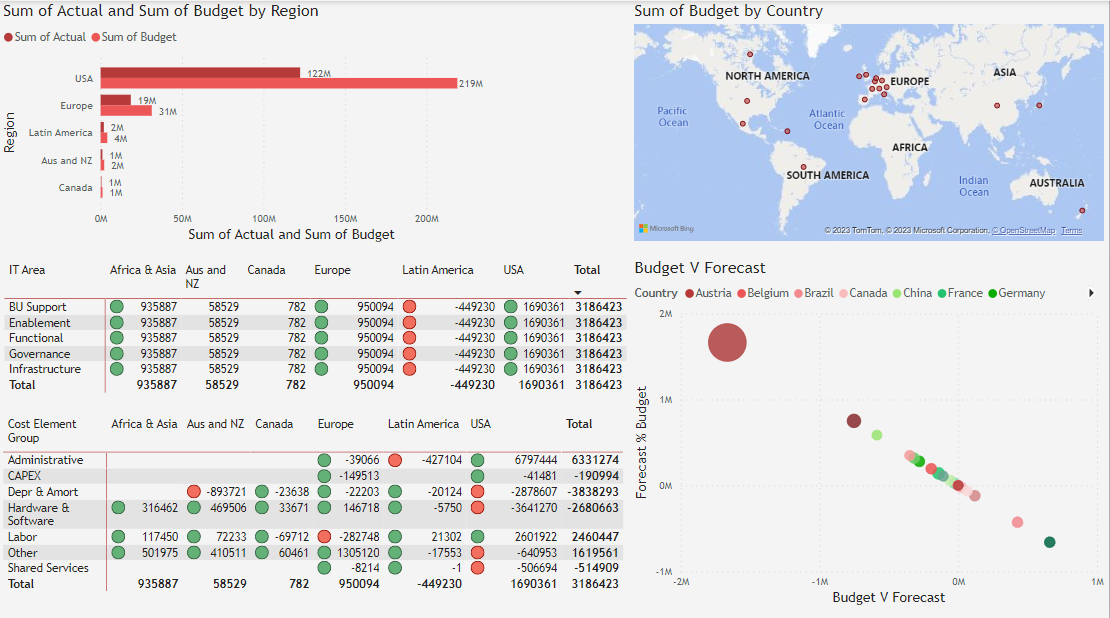

Layout of this report page (visuals, bound fields, positions):
{"tool":"powerbi","page":{"name":"Page 1","canvas":[1280,720],"ordinal":0},"visuals":[{"type":"gauge","title":"Sum of Actual VS Sum of Budget","fields":{"Y":["Sum(Actuals.Actual)"],"TargetValue":["Sum(Budget.Budget)"]},"box":[0,306.7,280.7,204],"z":0},{"type":"kpi","fields":{"TrendLine":["Budget.Date"],"Indicator":["Sum(Budget.Budget)"],"Goal":["Sum(Forecast.Forecast)"]},"box":[0,510.7,280.7,209.8],"z":2},{"type":"lineChart","fields":{"Category":["Budget.Date.Variation.Date Hierarchy.Year","Budget.Date.Variation.Date Hierarchy.Month","CostElements.Cost Element"],"Y":["Sum(Actuals.Actual)","Sum(Budget.Budget)","Sum(Forecast.Forecast)"]},"box":[324.1,56.4,591.7,250.3],"z":3},{"type":"areaChart","fields":{"Y":["Actuals.Actual RT","Budget.Budget RT","Forecast.Forecast RT"],"Category":["Budget.Date.Variation.Date Hierarchy.Year","Budget.Date.Variation.Date Hierarchy.Quarter","Budget.Date.Variation.Date Hierarchy.Month","Budget.Date.Variation.Date Hierarchy.Day"]},"box":[324.1,306.7,591.7,205.4],"z":4},{"type":"lineClusteredColumnComboChart","fields":{"Category":["Budget.Date.Variation.Date Hierarchy.Year","Budget.Date.Variation.Date Hierarchy.Quarter","Budget.Date.Variation.Date Hierarchy.Month"],"Y":["Budget.Budget V","Budget.Forecast % Budget"]},"box":[324.1,510.7,591.7,209.8],"z":5},{"type":"clusteredBarChart","fields":{"Category":["Regions.Region"],"Y":["Budget.Forecast % Budget"]},"box":[915.7,56.4,364.6,230],"z":6},{"type":"map","fields":{"Size":["Sum(Actuals.Actual)"],"Category":["Regions.Country"]},"box":[915.7,506.3,364.6,214.1],"z":7},{"type":"card","fields":{"Values":["Actuals.YTD month"]},"box":[0,56.4,324.1,205.4],"z":8},{"type":"clusteredBarChart","fields":{"Category":["Forecast.CostElement"],"Y":["Budget.Forecast % Budget"]},"box":[915.7,286.4,364.6,219.9],"z":9}]}

Visuals, with their boxes in screenshot pixels (x1, y1, x2, y2), scaled from the page's 1280x720 canvas onto the 1110x618 screenshot:
"Sum of Actual VS Sum of Budget" gauge: [0, 263, 243, 438]
kpi - Budget.Date x Sum(Budget.Budget): [0, 438, 243, 617]
lineChart - Budget.Date.Variation.Date Hierarchy.Year x Budget.Date.Variation.Date Hierarchy.Month: [281, 48, 794, 263]
areaChart - Actuals.Actual RT x Budget.Budget RT: [281, 263, 794, 440]
lineClusteredColumnComboChart - Budget.Date.Variation.Date Hierarchy.Year x Budget.Date.Variation.Date Hierarchy.Quarter: [281, 438, 794, 617]
clusteredBarChart - Regions.Region x Budget.Forecast % Budget: [794, 48, 1109, 246]
map - Sum(Actuals.Actual) x Regions.Country: [794, 435, 1109, 617]
card - Actuals.YTD month: [0, 48, 281, 225]
clusteredBarChart - Forecast.CostElement x Budget.Forecast % Budget: [794, 246, 1109, 435]
